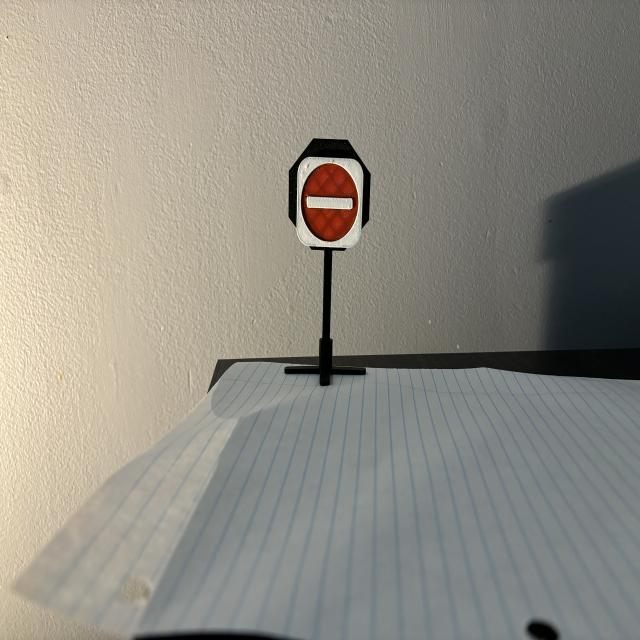sign_noentry: (298, 158, 364, 248)
